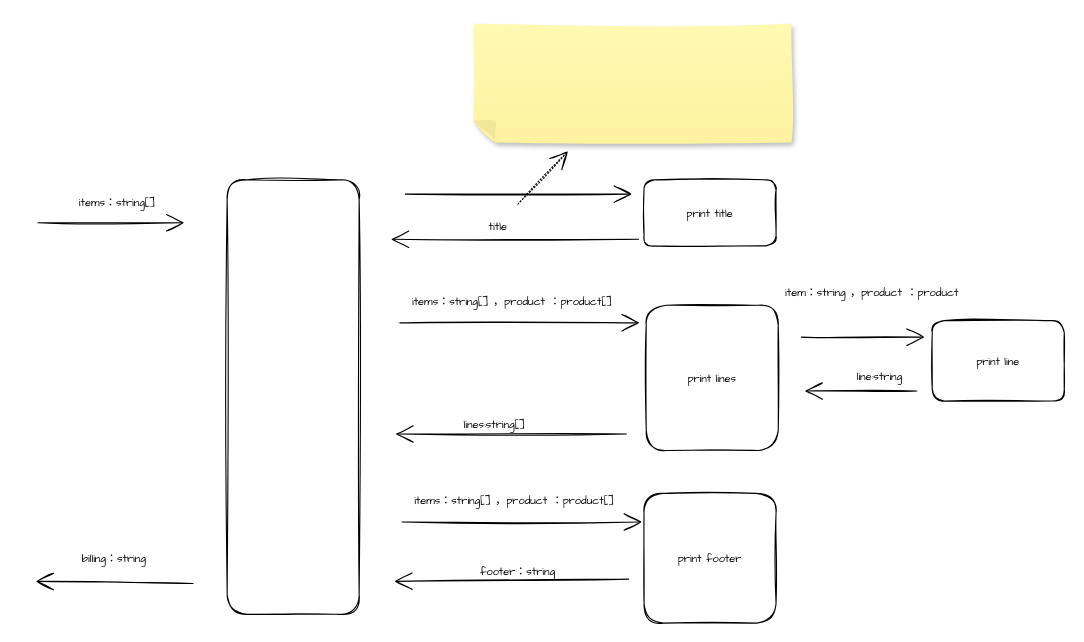
The diagram is 1084 pixels wide and 642 high, and some of its shapes have lost their labels. The shapes that lost their labels are listed below. From the top down, each one's centre as x and y in pixels, then its label:
At point (633, 84): "title is : ***<store earning no money>Receipt ***".
At point (292, 396): "printReceipt".
